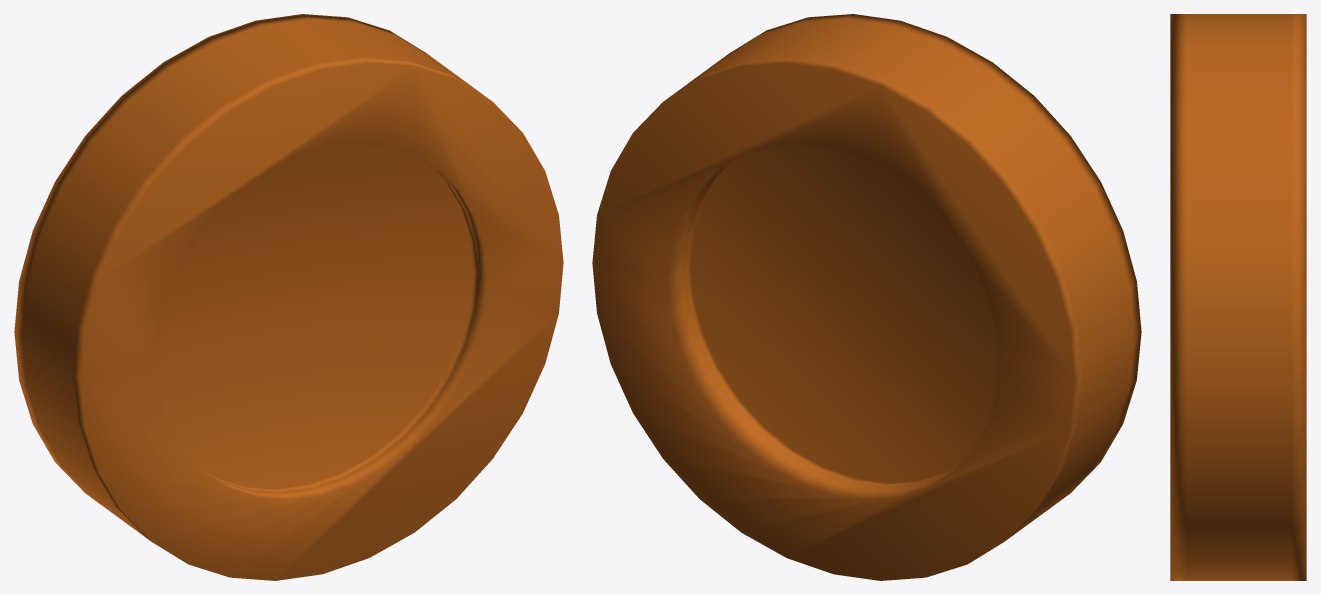
The model's file is Coin.fbx.
3 views of the same model, side by side, from view 1: azimuth 30°, elevation 25°; view 2: azimuth 150°, elevation 25°; view 3: azimuth 270°, elevation 25° (orthographic).
Parts seen in each view (by area): view 1: Cylinder; view 2: Cylinder; view 3: Cylinder.
Boxes of the visible parts, left/top/right/bottom form: Cylinder: left=14, top=14, right=563, bottom=580; Cylinder: left=592, top=14, right=1141, bottom=580; Cylinder: left=1170, top=14, right=1306, bottom=580.
Size of the model in its own units: 200 by 200 by 47.98.
